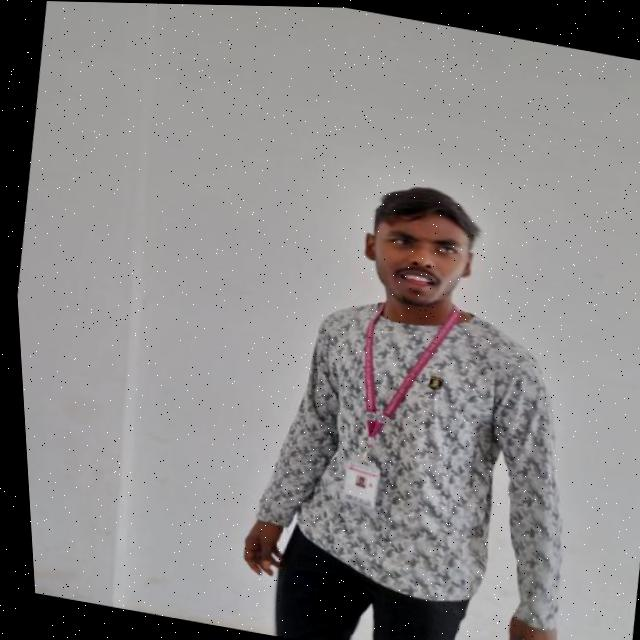id_card: (311, 287, 470, 527)
